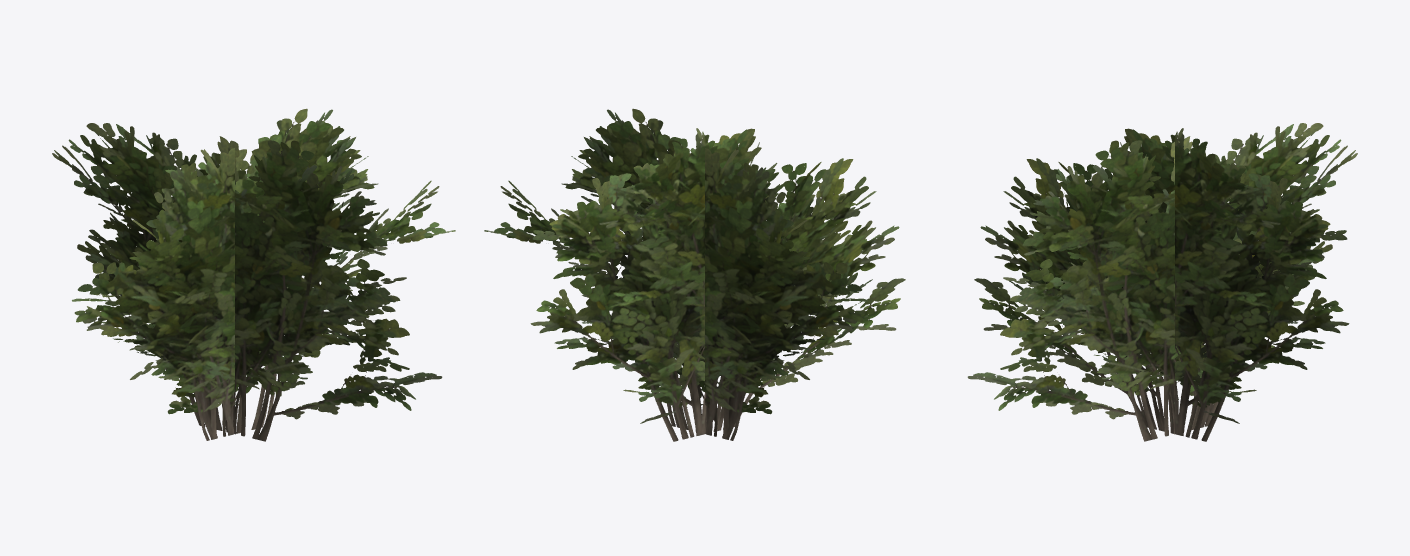
File: liska_1_daleko.glb
3 views of the same model, side by side, from view 1: azimuth 30°, elevation 25°; view 2: azimuth 150°, elevation 25°; view 3: azimuth 270°, elevation 25° (orthographic).
Visible parts, largest first — view 1: liska_1_daleko; view 2: liska_1_daleko; view 3: liska_1_daleko.
Boxes of the visible parts, <box> form: liska_1_daleko: <box>52,108,455,441</box>; liska_1_daleko: <box>484,108,905,441</box>; liska_1_daleko: <box>967,123,1357,441</box>.
Bounding box in the file's own units: 5.07 × 3.43 × 4.39.
Materials: 3 (3 with a texture image).
